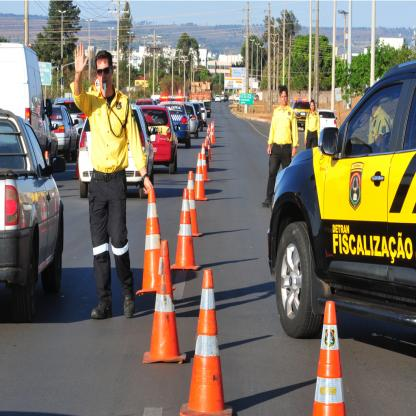Car: (1, 88, 210, 323), (268, 61, 416, 340), (291, 96, 311, 133), (319, 109, 339, 133), (216, 95, 260, 105)
